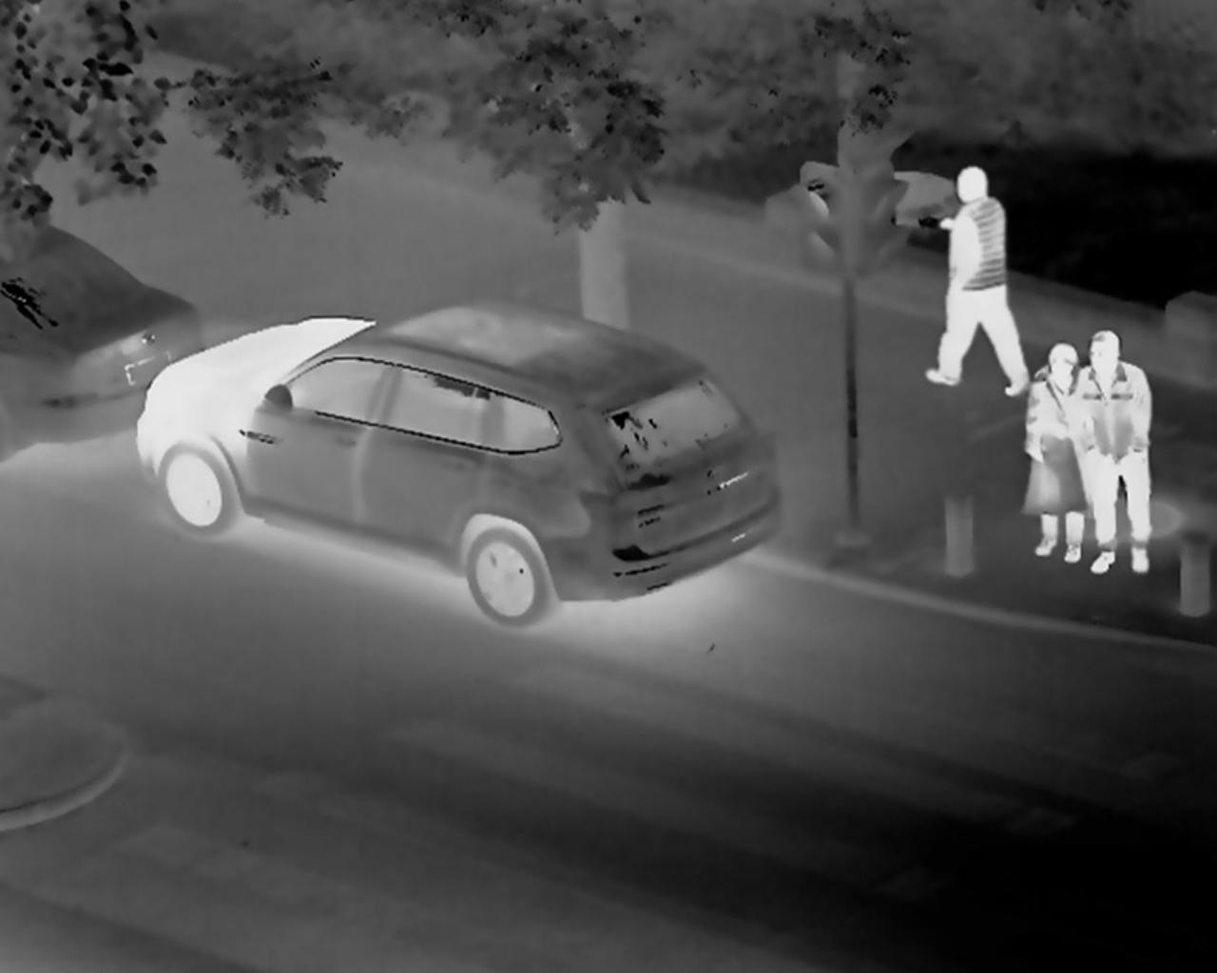person: (937, 168, 1016, 389), (1083, 328, 1149, 576), (1031, 341, 1080, 572)
